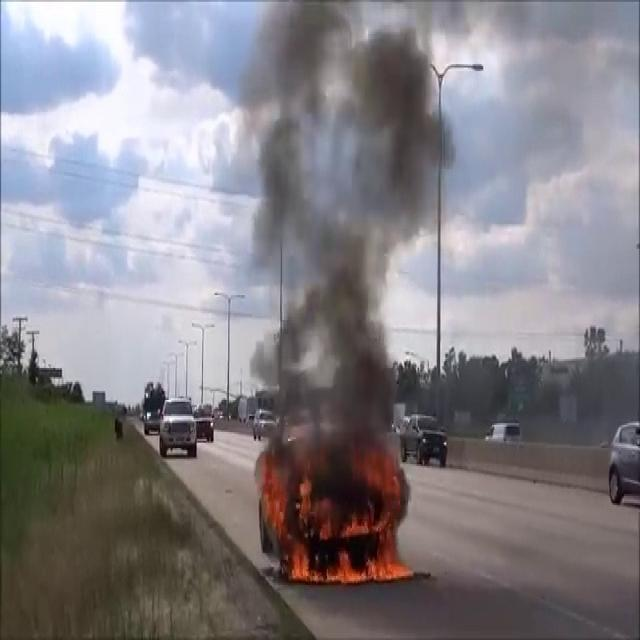Fire: (264, 454, 416, 588)
Smoke: (248, 1, 449, 467)
